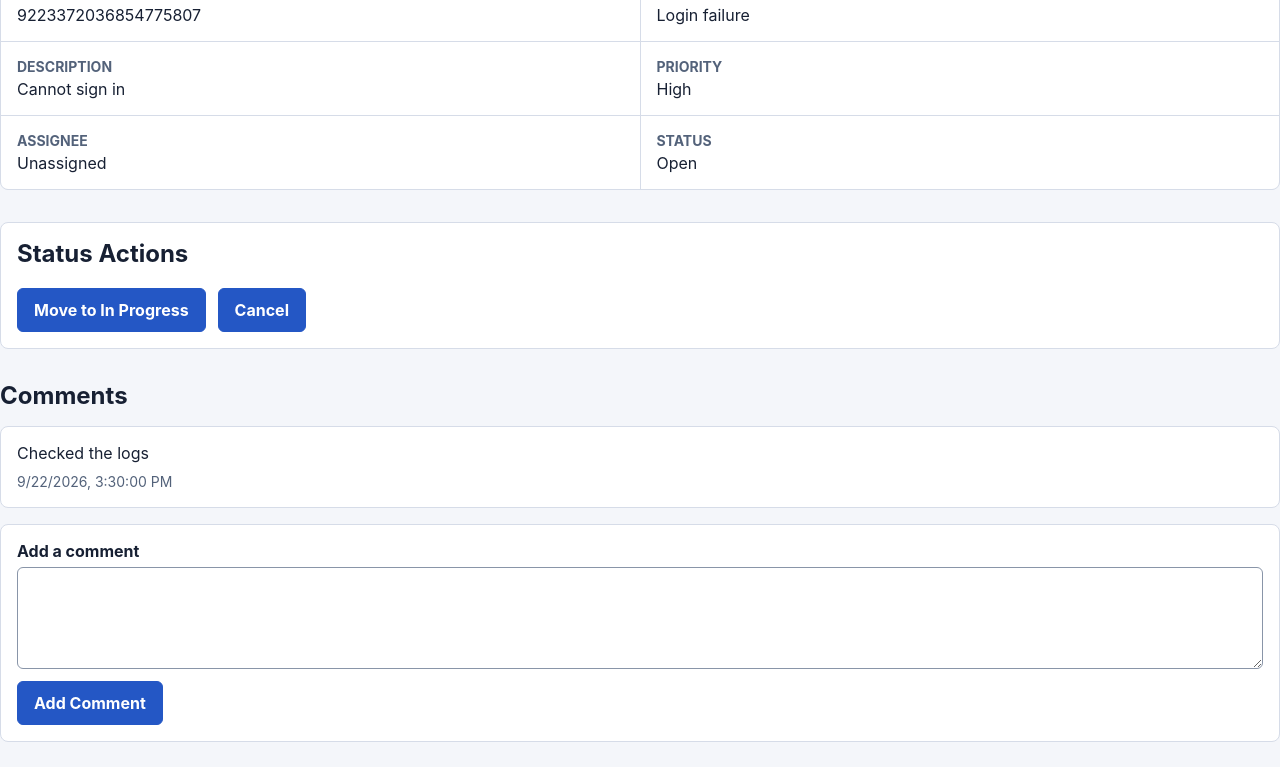
Test: Ticket Detail and mutations › preserves comment text and shows a safe failure
(page scrolled)
Type "Keep this comment" into the text box labelled "Add a comment".
click(640, 618); type("Keep this comment")  # box [17,567,1263,669]
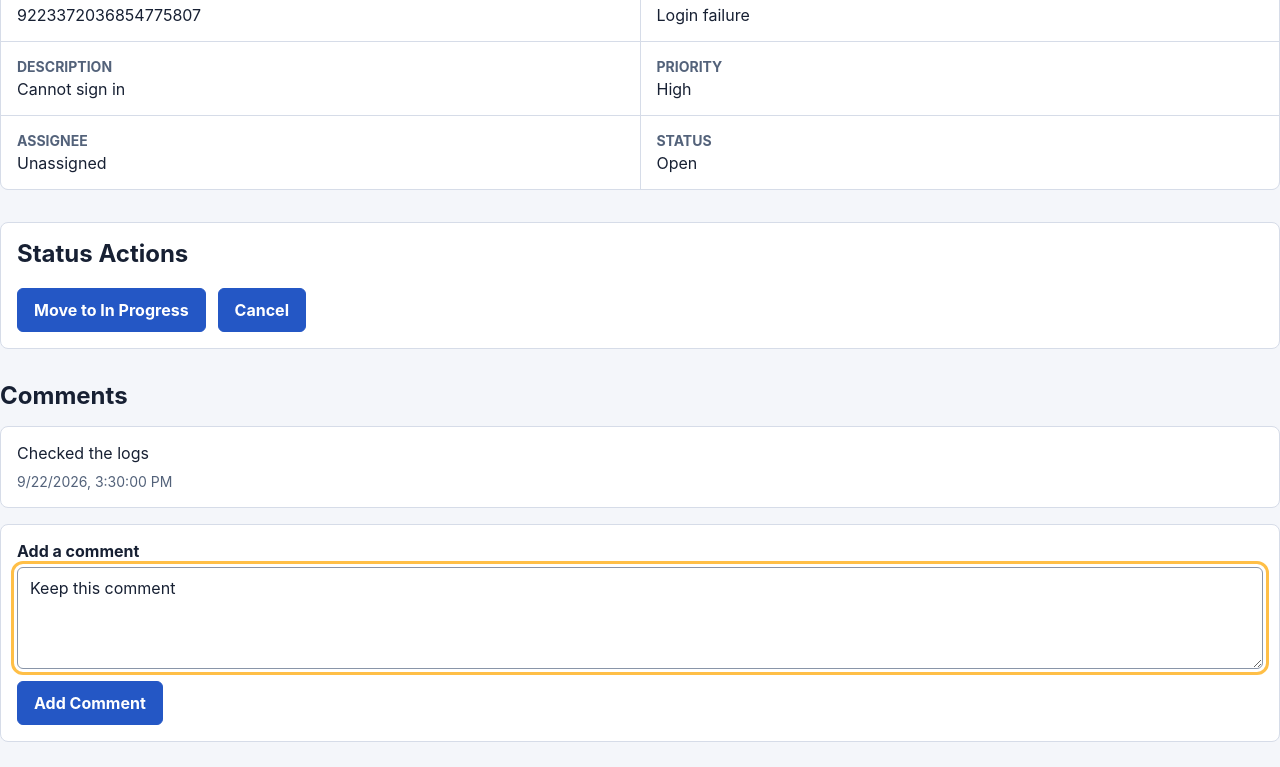
Click the button "Add Comment".
click(90, 703)  # box [17,681,163,725]
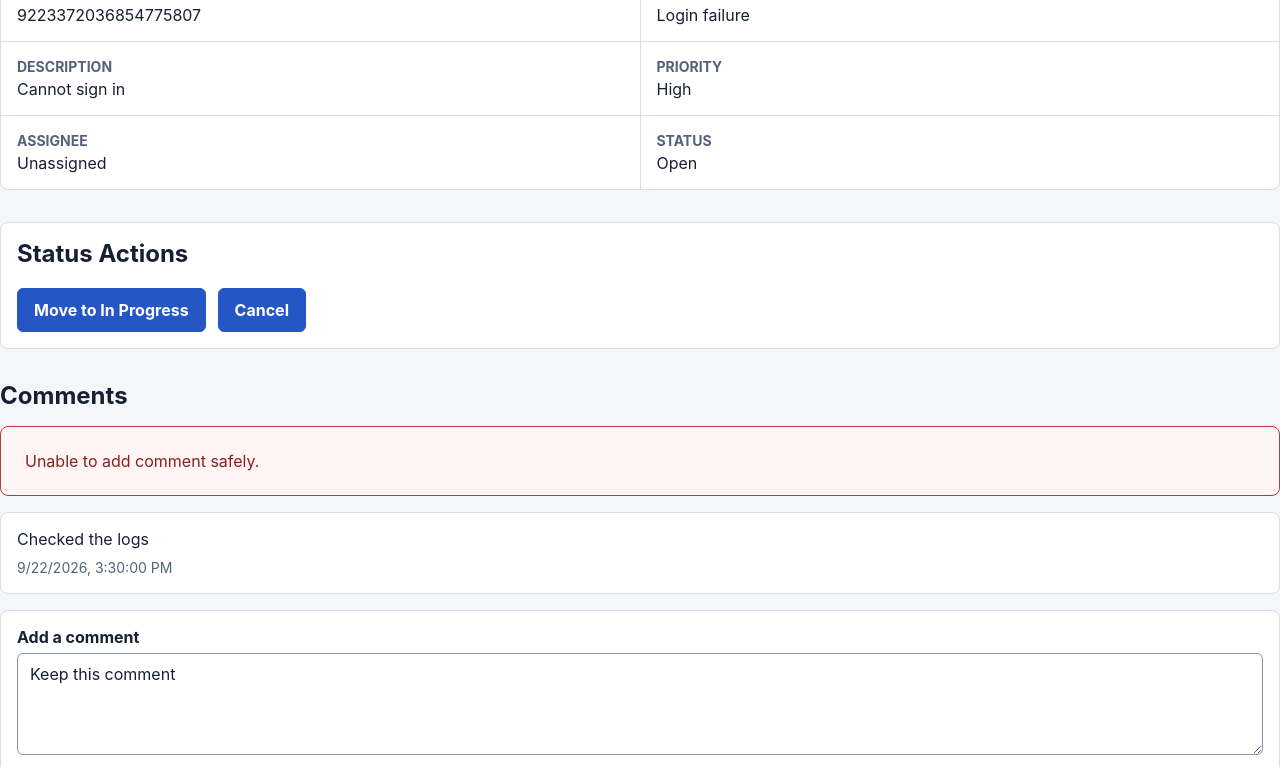
Expected: the message shows "Unable to add comment safely", [25,451,259,471]
